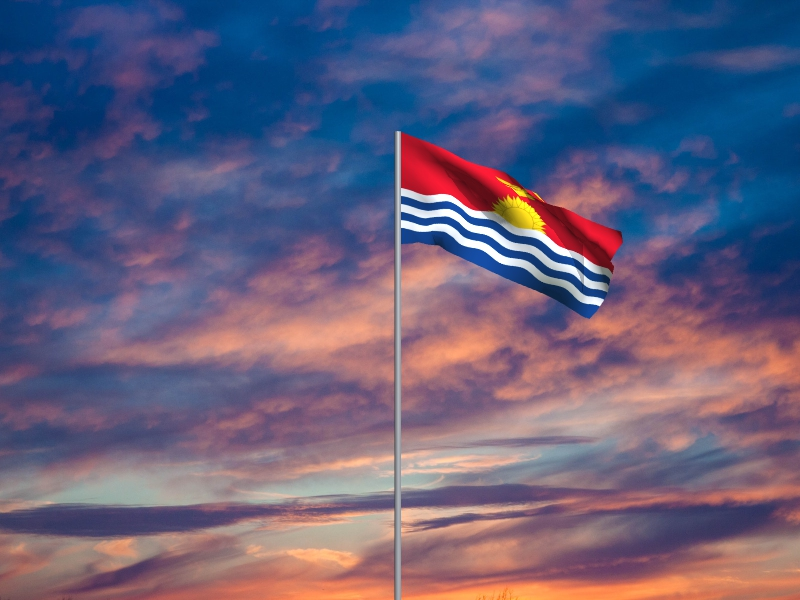ki: (402, 133, 625, 321)
